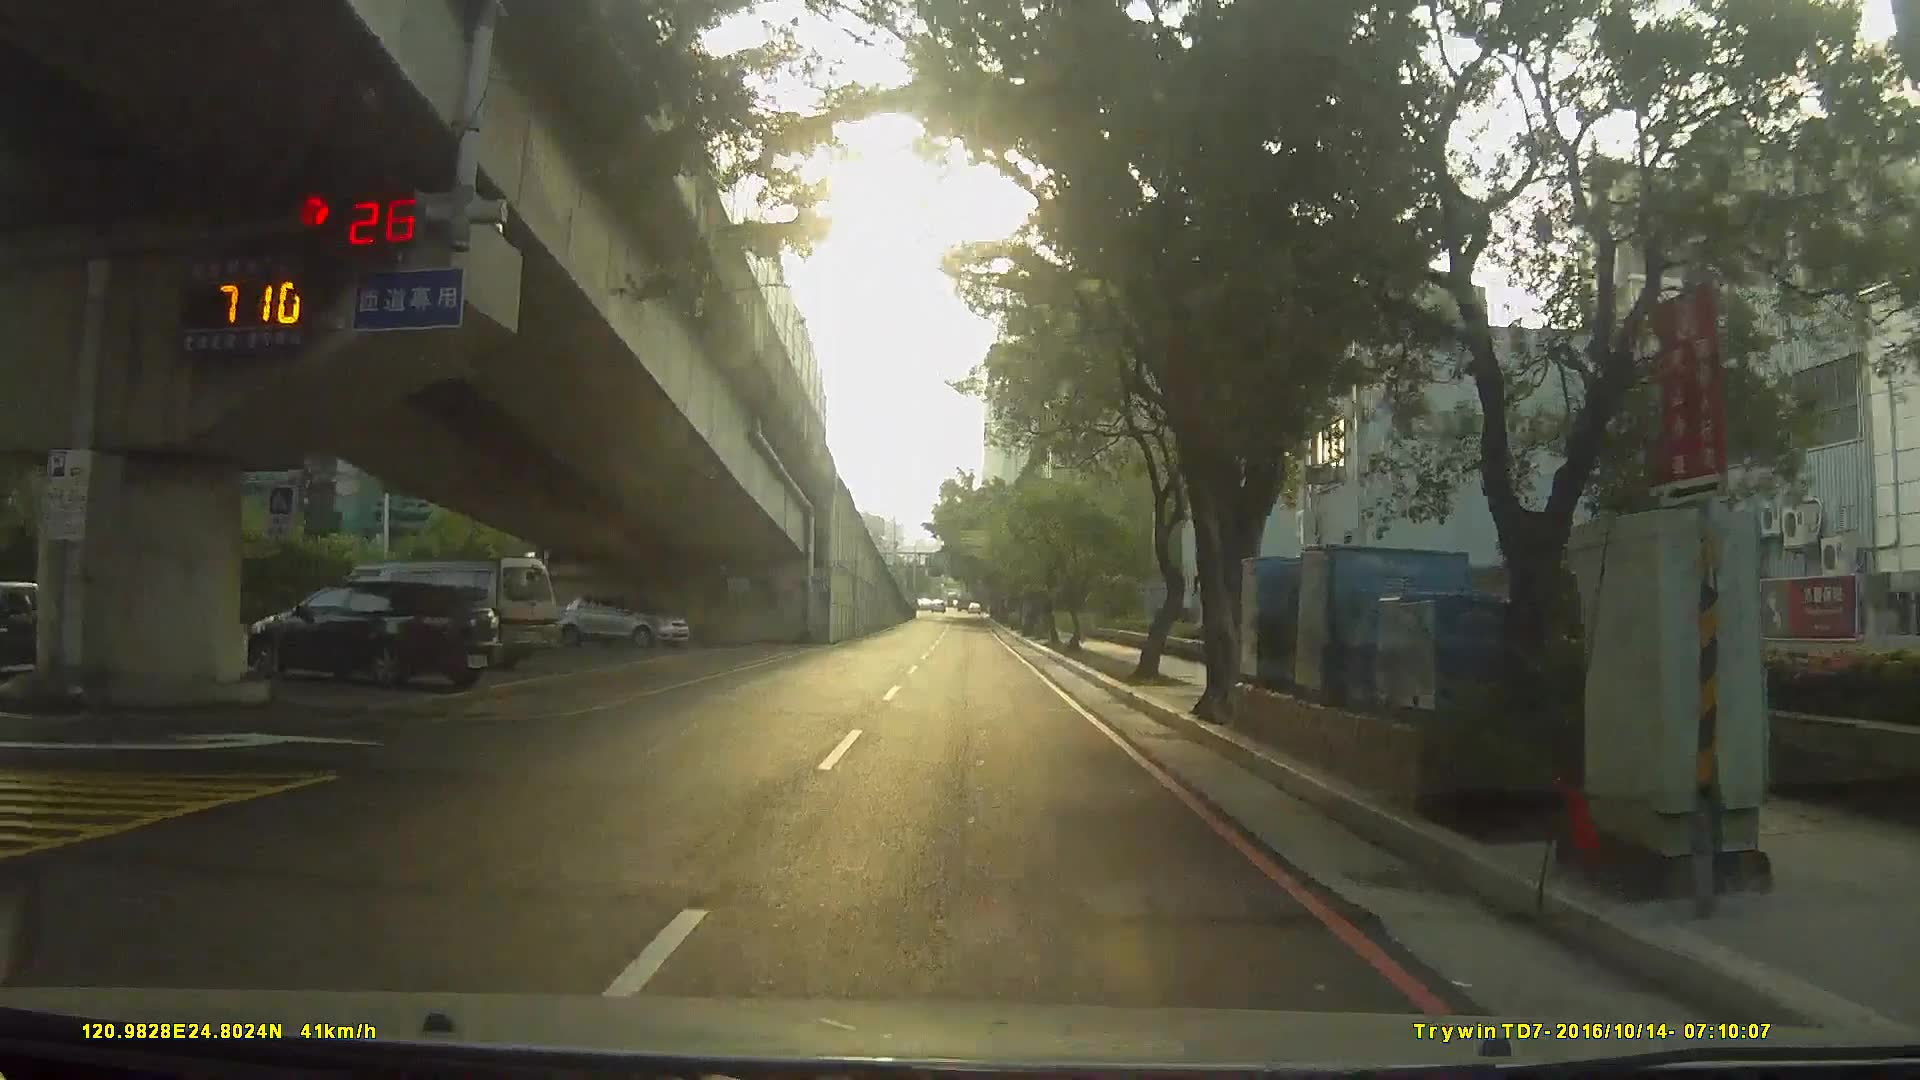vehicle: (232, 575, 506, 694), (313, 551, 563, 680), (555, 589, 688, 649), (1, 579, 71, 676)
